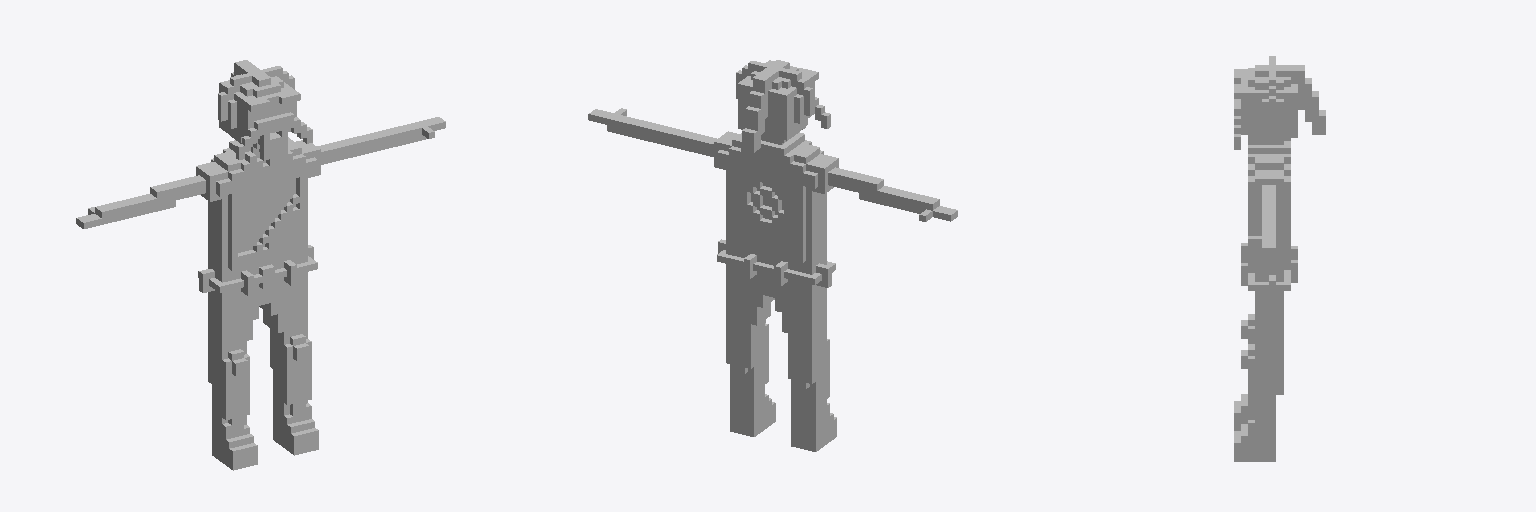
Rendered from pl 1 anim 1.obj.
The picture shows the model from 3 angles: view 1: azimuth 30°, elevation 25°; view 2: azimuth 150°, elevation 25°; view 3: azimuth 270°, elevation 25°; orthographic projection.
Parts seen in each view (by area): view 1: object 1; view 2: object 1; view 3: object 1.
Boxes of the visible parts, x1=… form: object 1: x1=76, y1=60, x2=445, y2=470; object 1: x1=588, y1=60, x2=957, y2=451; object 1: x1=1234, y1=56, x2=1325, y2=461.
Bounding box in the file's own units: 5.9 × 5.8 × 1.3.